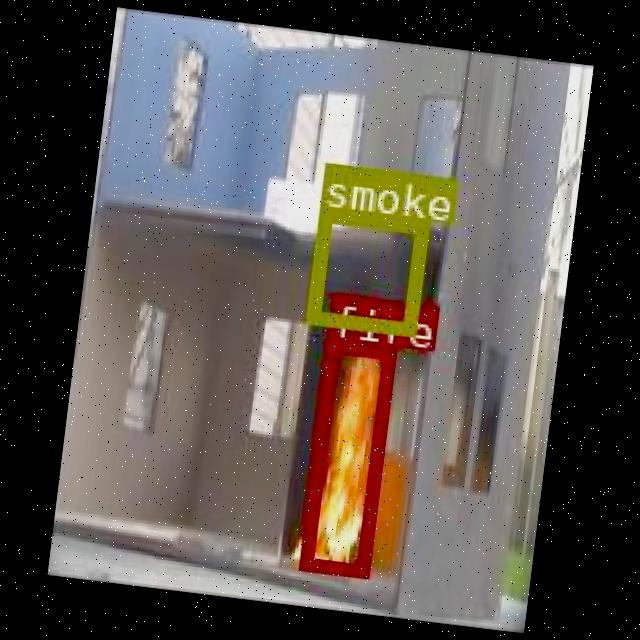fire: (296, 335, 394, 575)
smoke: (305, 205, 426, 332)
